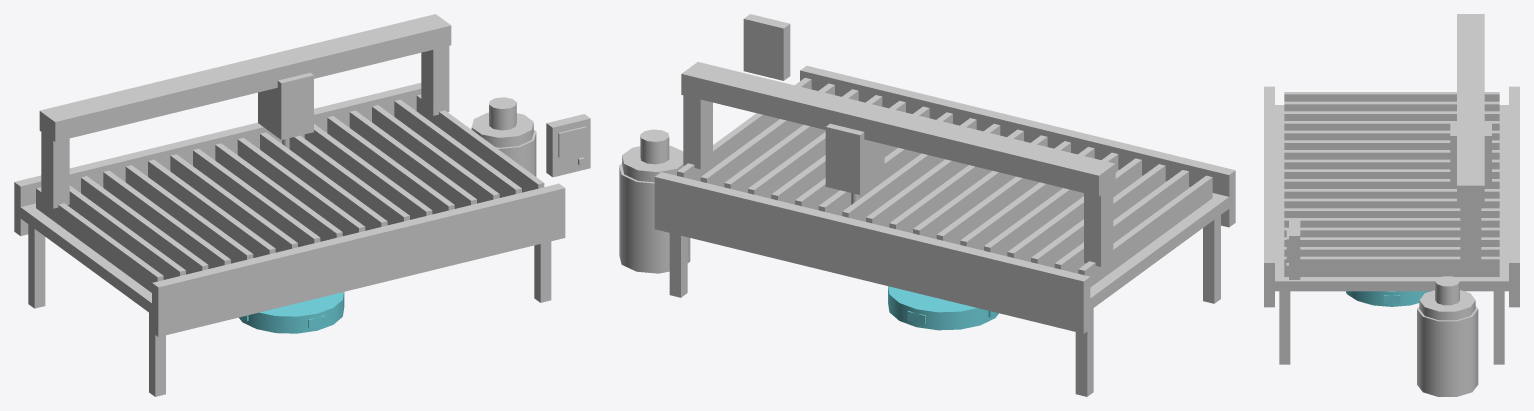
3 views of the same model, side by side, from view 1: azimuth 30°, elevation 25°; view 2: azimuth 150°, elevation 25°; view 3: azimuth 270°, elevation 25° (orthographic). The views are drawn at different scales.
Visible parts, largest first — view 1: part033, part026, part032, part027, part006, part005, part015, part010, part020, part012, part009, part022 (+22 smaller); view 2: part032, part026, part033, part034, part027, part006, part005, visualRotor, part029, part008, part007, part009 (+21 smaller); view 3: part005, part026, part034, part023, part033, part032, part017, part007, part020, part018, part010, part013 (+19 smaller).
Part boxes in pixels (x1=…): part033: x1=152, y1=183, x2=565, y2=336; part026: x1=39, y1=14, x2=451, y2=141; part032: x1=14, y1=83, x2=421, y2=236; part027: x1=258, y1=72, x2=313, y2=139; part006: x1=36, y1=187, x2=163, y2=292; part005: x1=19, y1=110, x2=416, y2=314; part015: x1=237, y1=137, x2=365, y2=236; part010: x1=125, y1=165, x2=253, y2=263; part020: x1=349, y1=110, x2=476, y2=208; part012: x1=170, y1=154, x2=297, y2=252; part009: x1=103, y1=170, x2=230, y2=268; part022: x1=394, y1=99, x2=521, y2=197; part032: x1=654, y1=172, x2=1090, y2=333; part026: x1=681, y1=62, x2=1115, y2=196; part033: x1=800, y1=65, x2=1235, y2=227; part034: x1=619, y1=163, x2=690, y2=273; part027: x1=825, y1=123, x2=884, y2=194; part006: x1=1078, y1=175, x2=1212, y2=287; part005: x1=1089, y1=170, x2=1229, y2=310; visualRotor: x1=888, y1=286, x2=998, y2=330; part029: x1=743, y1=14, x2=790, y2=80; part008: x1=1031, y1=164, x2=1165, y2=267; part007: x1=1054, y1=170, x2=1188, y2=273; part009: x1=1007, y1=158, x2=1141, y2=261; part005: x1=1273, y1=105, x2=1510, y2=291; part026: x1=1457, y1=14, x2=1484, y2=203; part034: x1=1417, y1=306, x2=1478, y2=396; part023: x1=1284, y1=256, x2=1499, y2=276; part033: x1=1264, y1=86, x2=1274, y2=307; part032: x1=1509, y1=86, x2=1519, y2=307; part017: x1=1284, y1=198, x2=1499, y2=208; part007: x1=1284, y1=101, x2=1499, y2=111; part020: x1=1284, y1=227, x2=1499, y2=237; part018: x1=1284, y1=208, x2=1499, y2=217; part010: x1=1284, y1=130, x2=1499, y2=140; part013: x1=1284, y1=159, x2=1499, y2=169.
Size of the model in its own units: 3.51 by 1.48 by 1.84.
